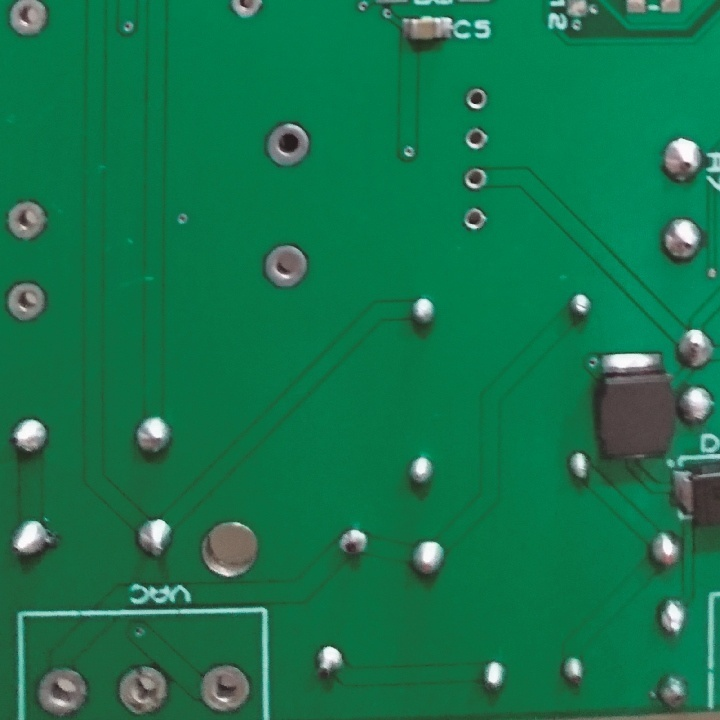F: (114, 661, 170, 718), (196, 659, 253, 715), (34, 665, 91, 715), (262, 243, 311, 289), (6, 198, 50, 249), (264, 125, 315, 166), (5, 281, 53, 324), (6, 2, 52, 41), (227, 1, 266, 21), (463, 86, 491, 113), (462, 165, 489, 192), (461, 206, 489, 232), (464, 126, 490, 152)
